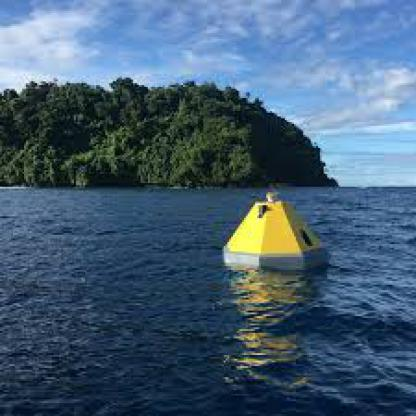buoy: (214, 183, 336, 279)
